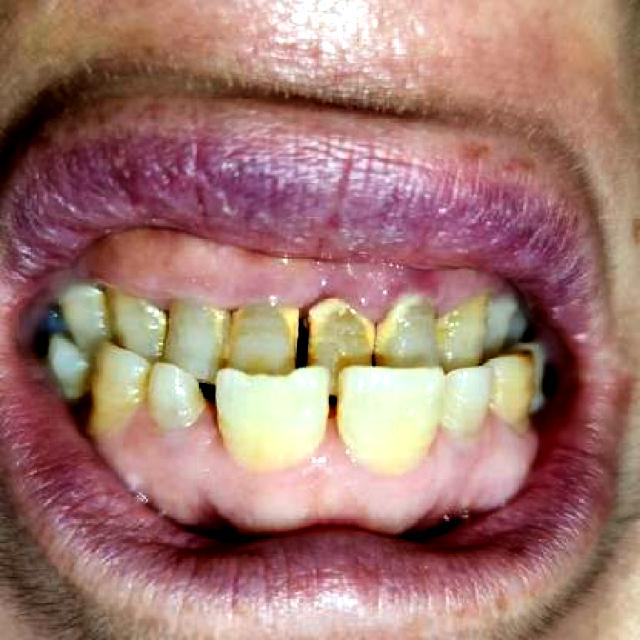Plaque: (81, 245, 485, 322)
